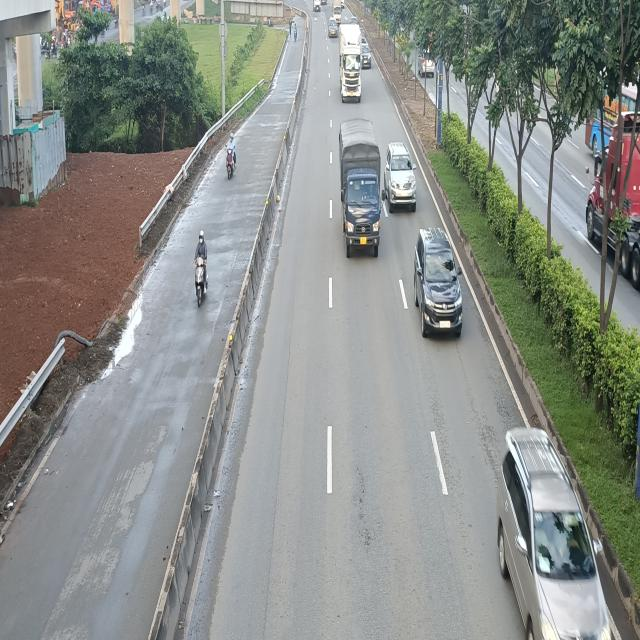car: (497, 426, 619, 640), (413, 228, 463, 339), (387, 144, 418, 215)
container: (338, 21, 363, 100)
truck: (340, 123, 385, 259)
